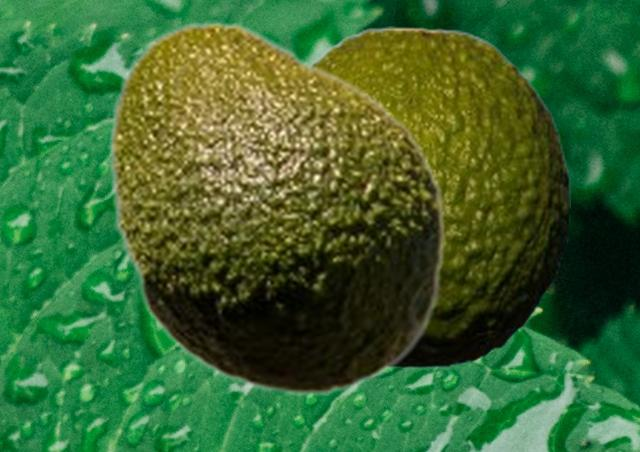avocado: (107, 20, 446, 397), (309, 26, 569, 367)
